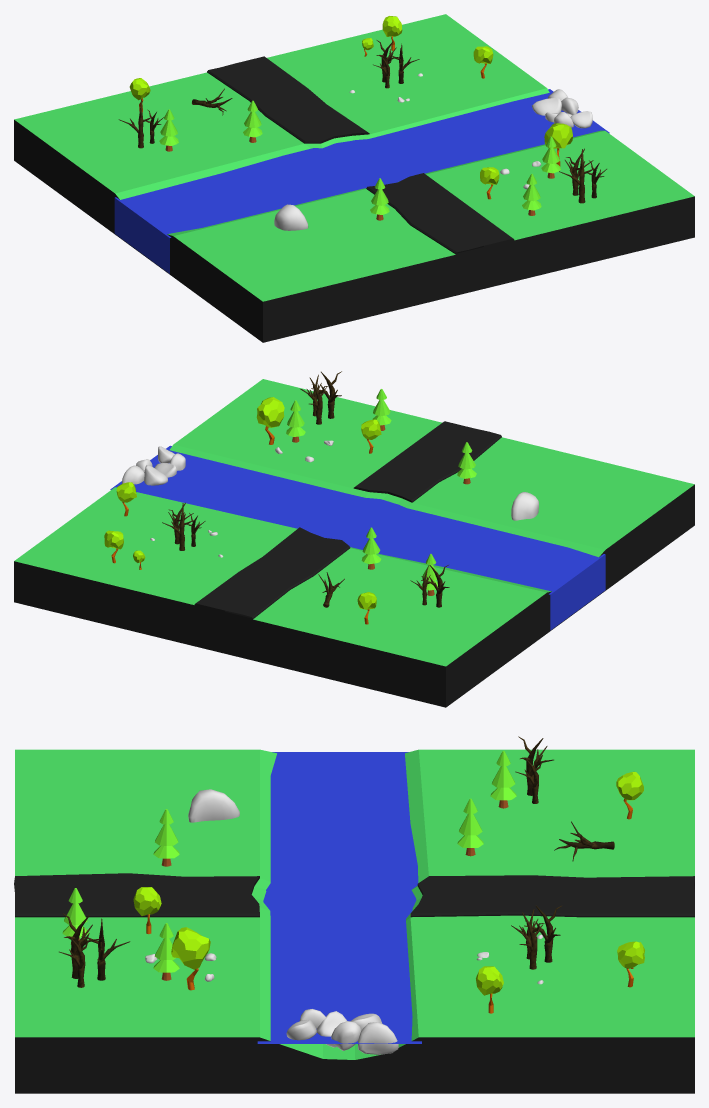
The model's file is Fase_tamanho_padrão.fbx.
3 views of the same model, one above another, from view 1: azimuth 30°, elevation 25°; view 2: azimuth 150°, elevation 25°; view 3: azimuth 270°, elevation 25° (orthographic). The views are drawn at different scales.
Parts seen in each view (by area): view 1: Rio, Arvores_tipo_1, Arvore Seca, Pedras, Arvores_tipo_2; view 2: Rio, Arvores_tipo_2, Arvore Seca, Pedras, Arvores_tipo_1; view 3: Rio, Pedras, Arvores_tipo_2, Arvores_tipo_1, Arvore Seca.
Part boxes in pixels (x1,y1,x2,y2): Rio: (14, 14, 694, 342); Arvores_tipo_1: (159, 100, 560, 220); Arvore Seca: (118, 40, 606, 203); Pedras: (274, 73, 592, 230); Arvores_tipo_2: (129, 16, 572, 199); Rio: (14, 379, 694, 707); Arvores_tipo_2: (104, 397, 381, 624); Arvore Seca: (162, 371, 449, 607); Pedras: (122, 440, 538, 557); Arvores_tipo_1: (286, 389, 476, 595); Rio: (14, 749, 694, 1093); Pedras: (145, 789, 543, 1054); Arvores_tipo_2: (133, 771, 644, 1013); Arvores_tipo_1: (62, 751, 516, 980); Arvore Seca: (59, 736, 614, 987).
Bounding box in the file's own units: 5069 × 988 × 4999.
